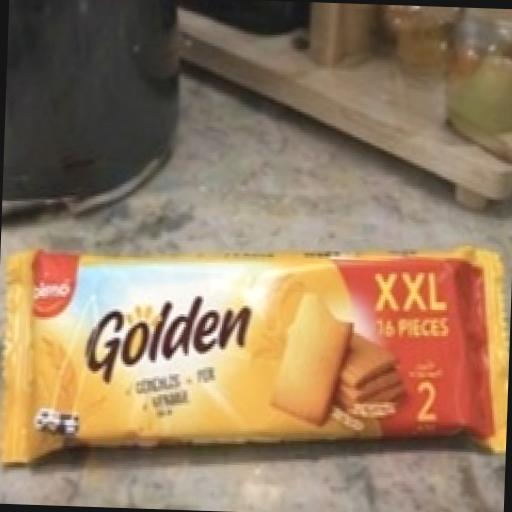golden: (0, 169, 512, 512)
